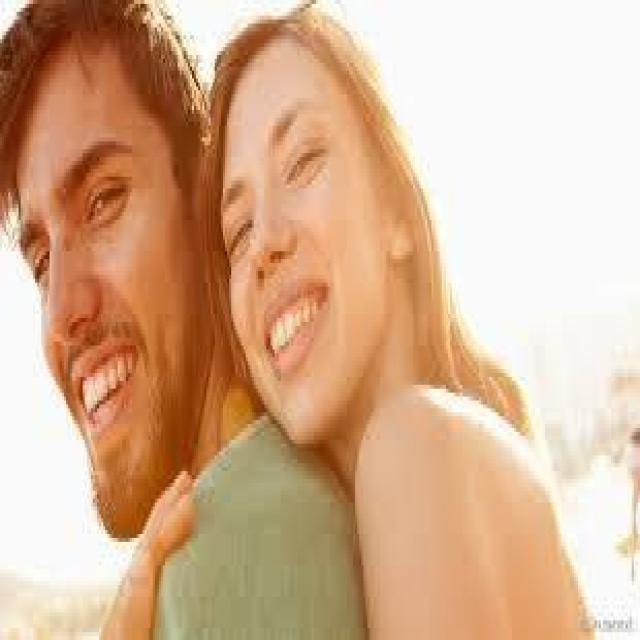person: (202, 4, 592, 636), (6, 0, 357, 632)
